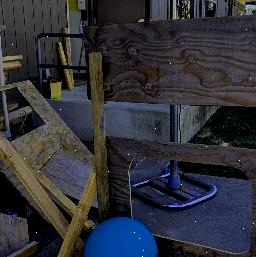algae: (77, 217, 161, 257)
